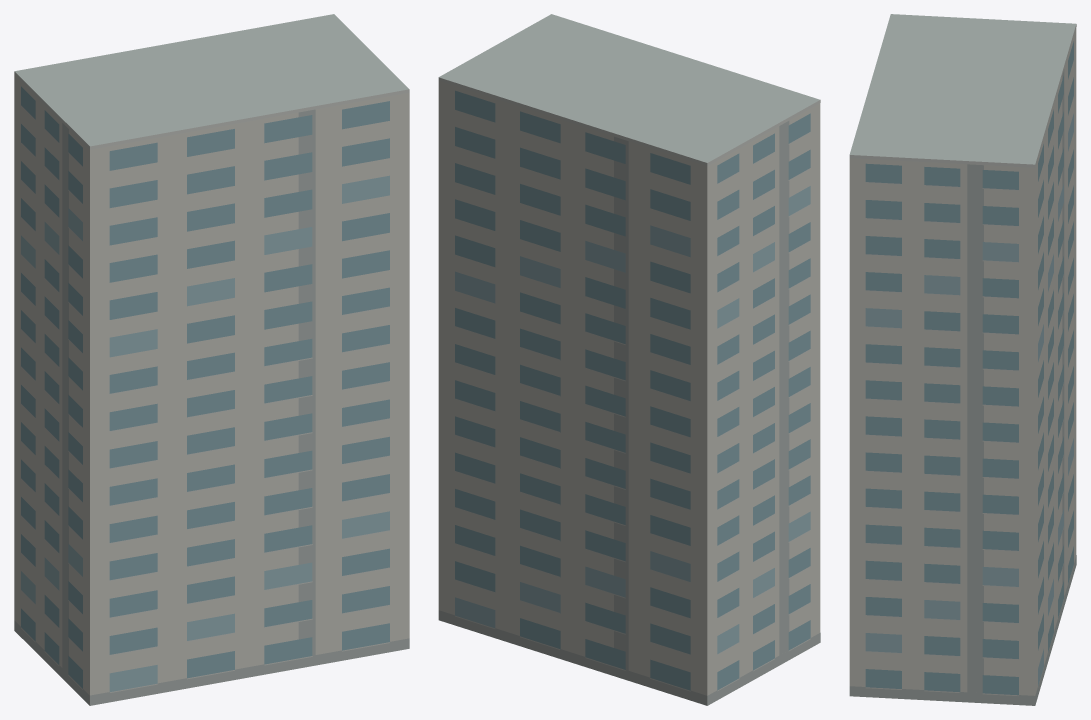
The model's file is residential-da9aa9b3-cf1b-4b57-b295-71a47de7df26.glb.
3 renders of one model, left to right at view 1: azimuth 30°, elevation 25°; view 2: azimuth 150°, elevation 25°; view 3: azimuth 270°, elevation 25°, orthographic. The views are drawn at different scales.
Visible parts, largest first — view 1: residential-da9aa9b3-cf1b-4b57-b295-71a47de7df26.tmp; view 2: residential-da9aa9b3-cf1b-4b57-b295-71a47de7df26.tmp; view 3: residential-da9aa9b3-cf1b-4b57-b295-71a47de7df26.tmp.
Part boxes in pixels (x1=…): residential-da9aa9b3-cf1b-4b57-b295-71a47de7df26.tmp: x1=14, y1=14, x2=409, y2=705; residential-da9aa9b3-cf1b-4b57-b295-71a47de7df26.tmp: x1=438, y1=14, x2=820, y2=705; residential-da9aa9b3-cf1b-4b57-b295-71a47de7df26.tmp: x1=849, y1=14, x2=1076, y2=705.
Size of the model in its own units: 23.87 by 40 by 15.21.
